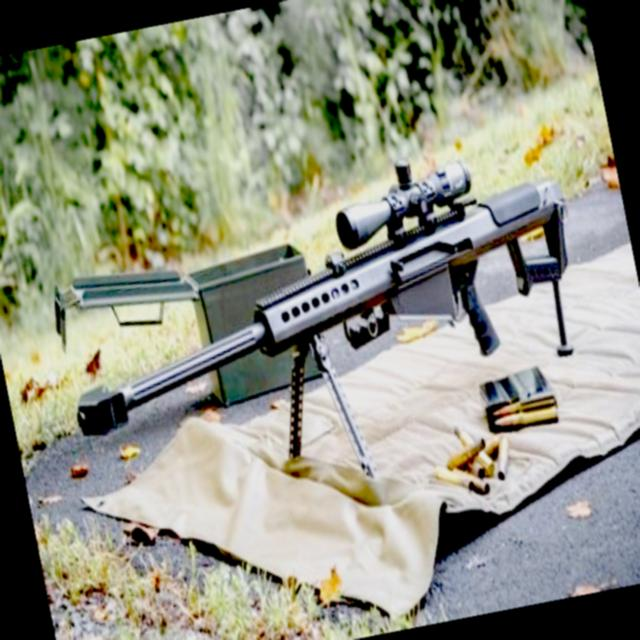rifle: (30, 112, 605, 476)
